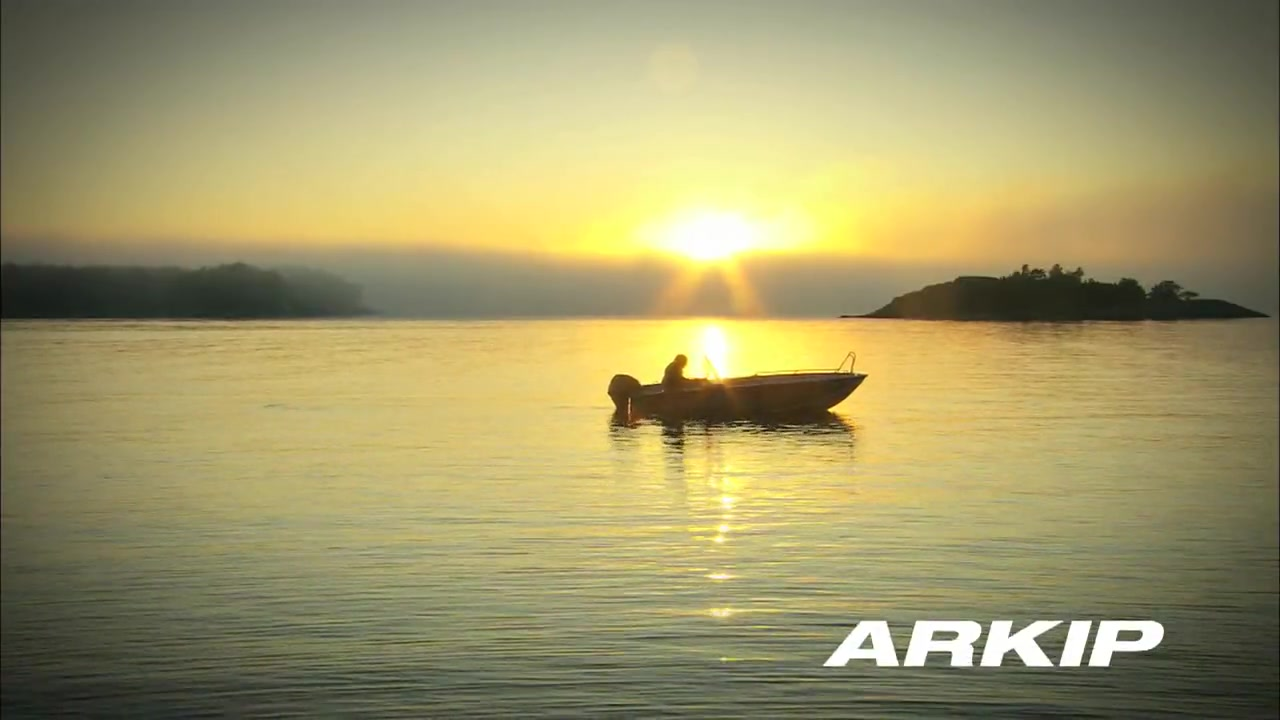boat: (602, 351, 867, 423)
